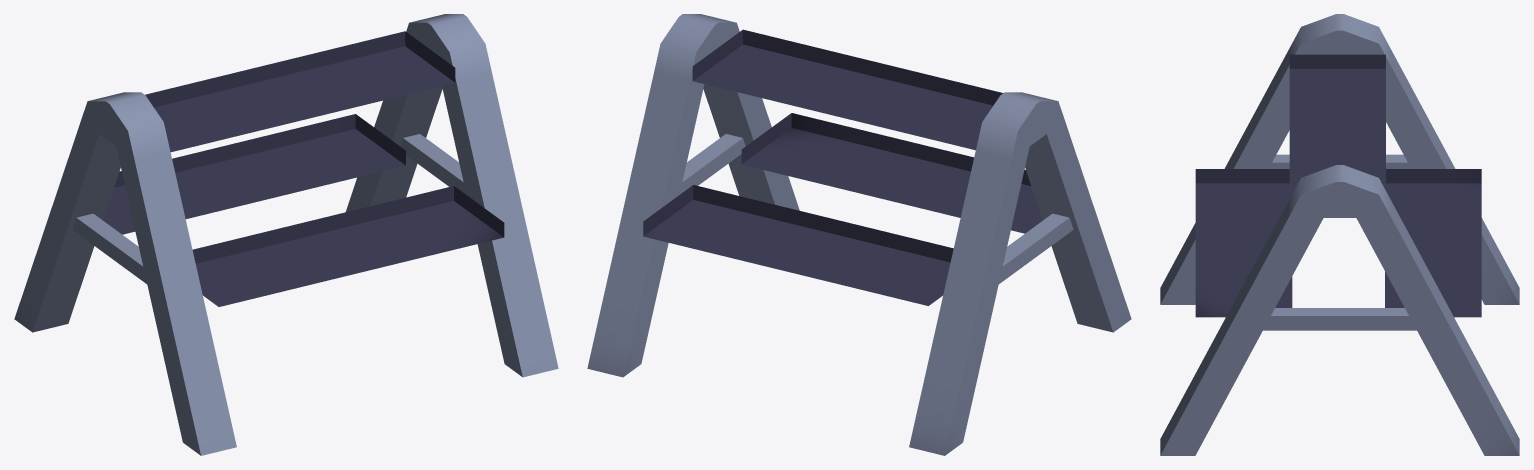
The model's file is stremyanka.fbx.
3 renders of one model, left to right at view 1: azimuth 30°, elevation 25°; view 2: azimuth 150°, elevation 25°; view 3: azimuth 270°, elevation 25°, orthographic. The views are drawn at different scales.
Parts seen in each view (by area): view 1: Cube.019; view 2: Cube.019; view 3: Cube.019.
Boxes of the visible parts, x1,y1,x2,y2 form: Cube.019: (14, 14, 558, 455); Cube.019: (587, 14, 1131, 455); Cube.019: (1160, 14, 1519, 455).
Bounding box in the file's own units: 104 × 79.09 × 94.01.
